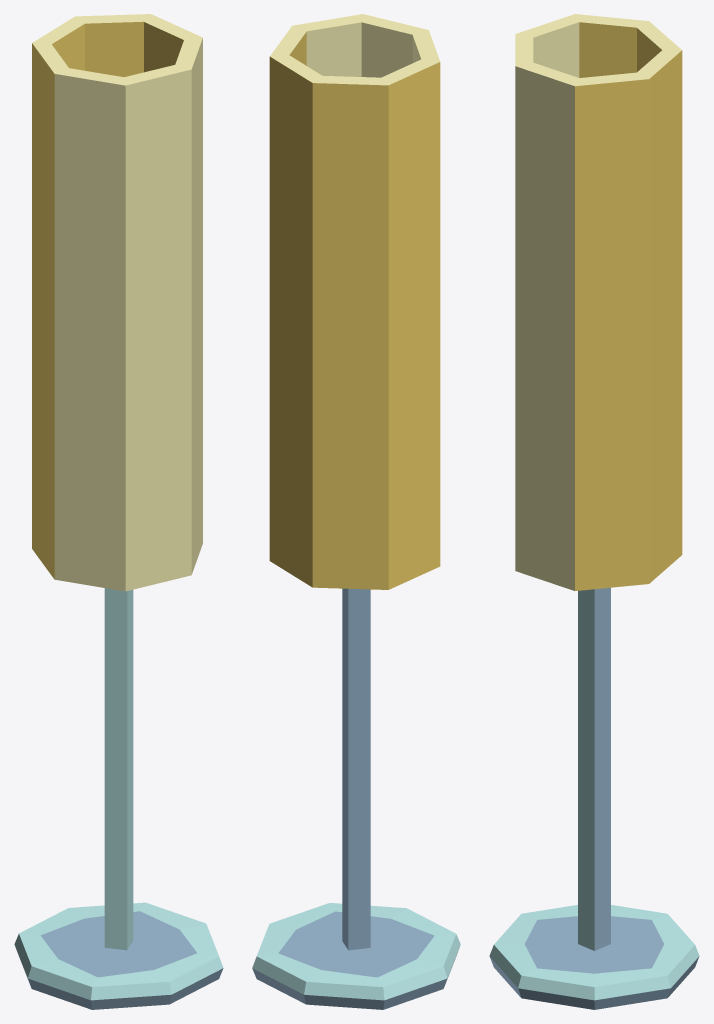
File: Rouned Floor Lamp.fbx
3 renders of one model, left to right at view 1: azimuth 30°, elevation 25°; view 2: azimuth 150°, elevation 25°; view 3: azimuth 270°, elevation 25°, orthographic.
Visible parts, largest first — view 1: Rouned Floor Lamp; view 2: Rouned Floor Lamp; view 3: Rouned Floor Lamp.
Boxes of the visible parts, x1=… form: Rouned Floor Lamp: x1=14, y1=14, x2=223, y2=1009; Rouned Floor Lamp: x1=252, y1=14, x2=460, y2=1009; Rouned Floor Lamp: x1=489, y1=14, x2=699, y2=1009.
Bounding box in the file's own units: 78.52 × 379 × 78.52.
